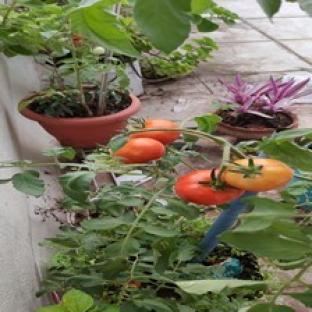Tomato: (175, 170, 243, 206), (223, 159, 293, 192), (115, 138, 165, 164), (131, 119, 179, 144)
